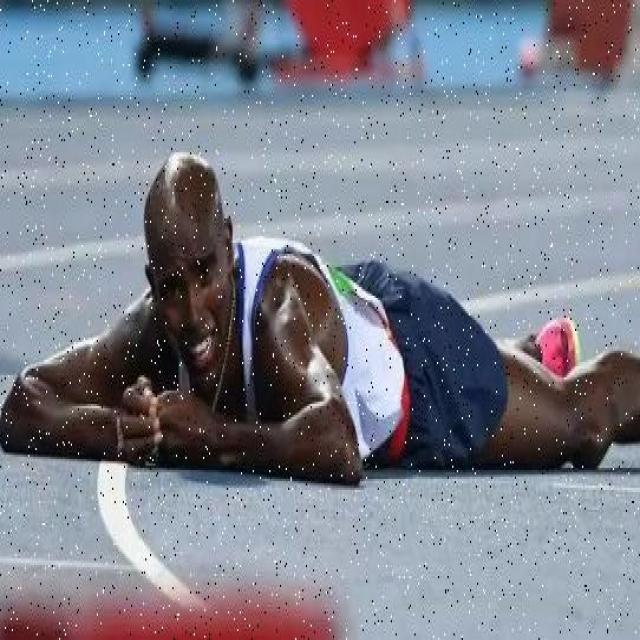fall: (0, 158, 621, 474)
